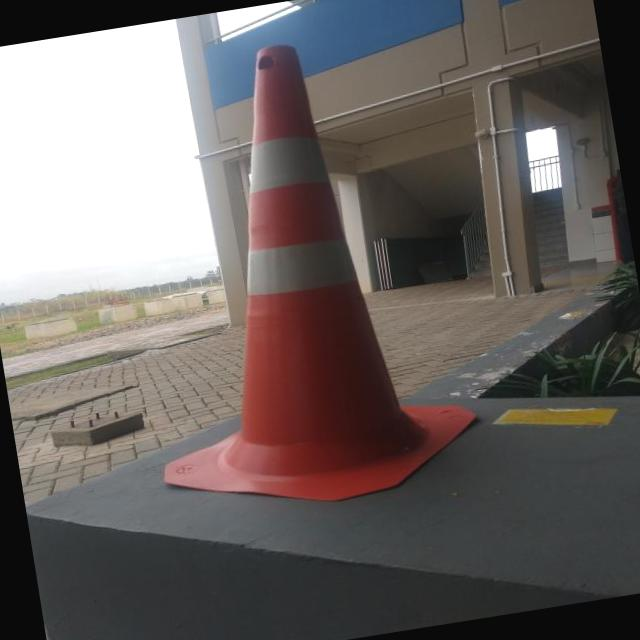Cone: (144, 29, 444, 522)
